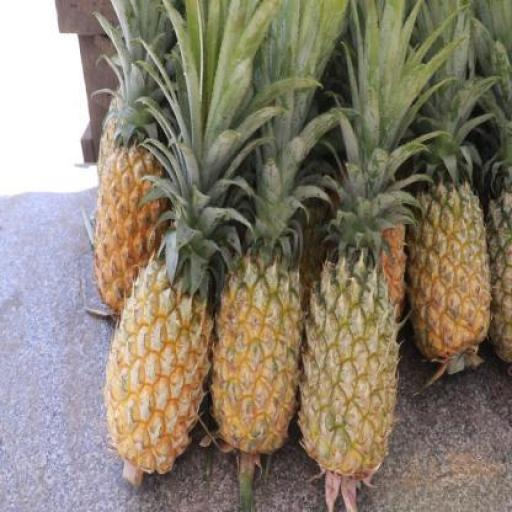------------------------------: (304, 260, 401, 464)
Pineapple - v8 v1: (107, 265, 214, 476), (212, 258, 304, 453), (96, 141, 172, 328), (408, 190, 488, 360)
